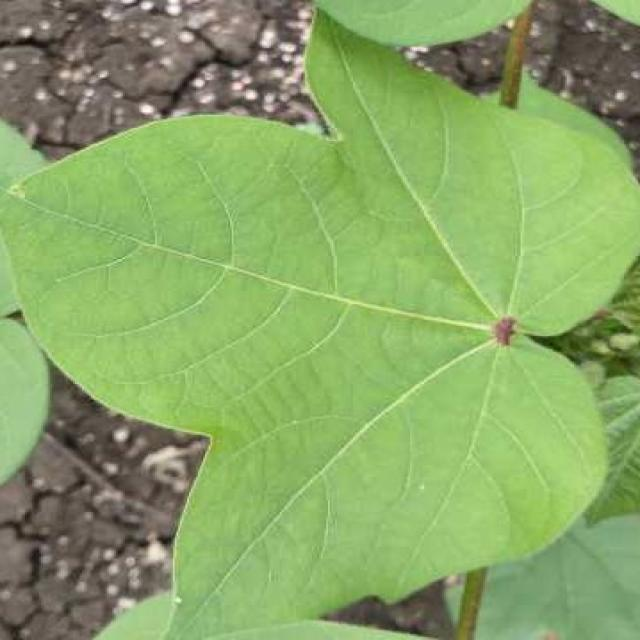Healthy Leaf: (64, 175, 565, 376)
